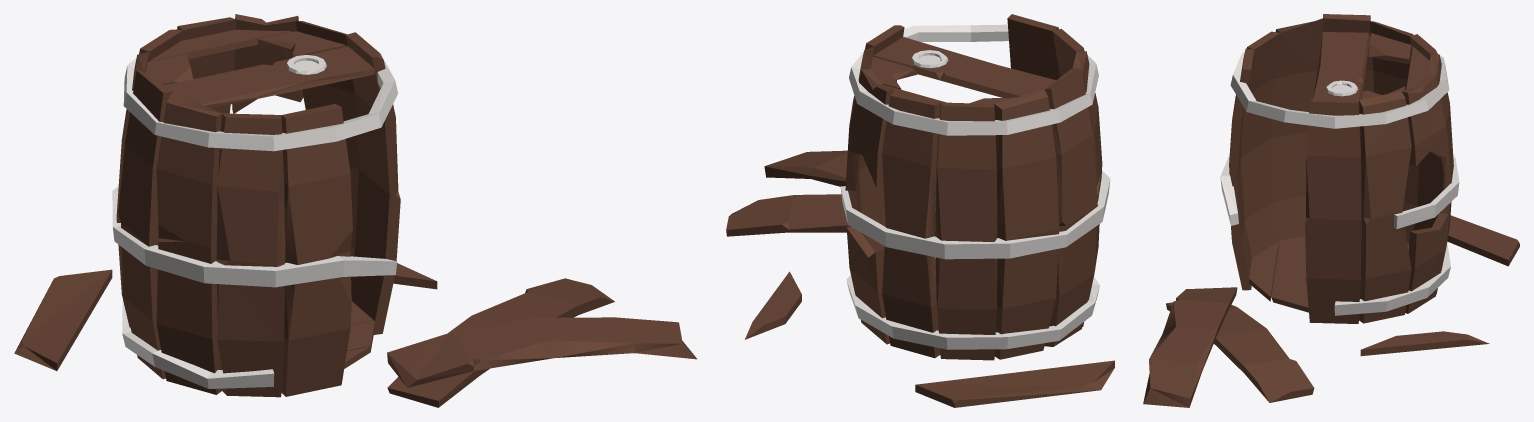
Rendered from Barrel_2.fbx.
3 renders of one model, left to right at view 1: azimuth 30°, elevation 25°; view 2: azimuth 150°, elevation 25°; view 3: azimuth 270°, elevation 25°, orthographic. The views are drawn at different scales.
Visible parts, largest first — view 1: Barrel_3; view 2: Barrel_3; view 3: Barrel_3.
Boxes of the visible parts, bbox=[...] form: Barrel_3: bbox=[14, 14, 696, 407]; Barrel_3: bbox=[726, 14, 1114, 407]; Barrel_3: bbox=[1143, 14, 1519, 407].
Size of the model in its own units: 1.68 by 0.8886 by 1.34.
